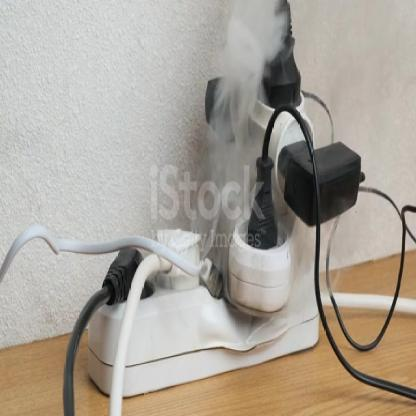smoke: (191, 0, 335, 326)
